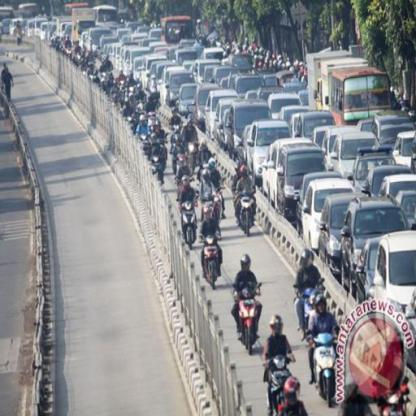car: (373, 229, 414, 323), (341, 195, 385, 270), (320, 197, 353, 260)
motorbike: (232, 280, 263, 351), (311, 329, 339, 399), (198, 232, 224, 288), (265, 354, 291, 402), (177, 198, 198, 248), (236, 185, 256, 230), (140, 129, 154, 151), (154, 152, 164, 180)
